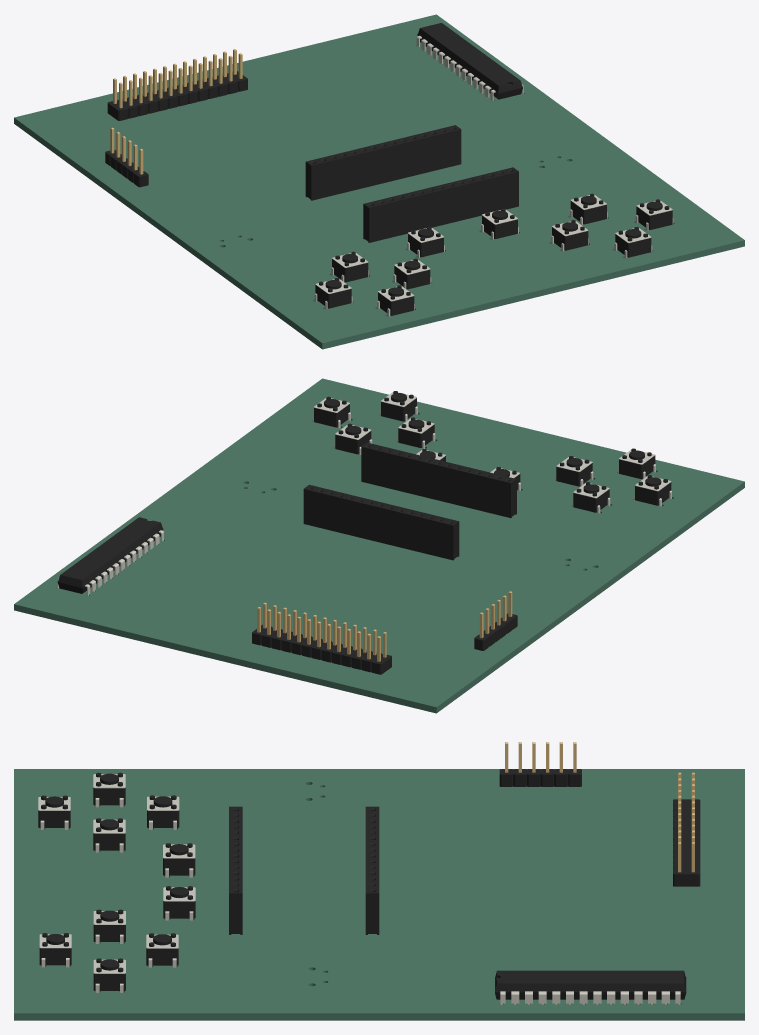
The picture shows the model from 3 angles, top to bottom: view 1: azimuth 30°, elevation 25°; view 2: azimuth 150°, elevation 25°; view 3: azimuth 270°, elevation 25°; orthographic projection. The views are drawn at different scales.
Parts seen in each view (by area): view 1: =>[0:1:1:7], J1, J2, J3, U1, J4, SW7, SW2, SW8, SW3, SW6, SW4 (+4 smaller); view 2: =>[0:1:1:7], J1, J2, J3, U1, J4, SW6, SW1, SW3, SW2, SW7, SW4 (+2 smaller); view 3: =>[0:1:1:7], U1, J3, J4, J1, J2, SW2, SW5, SW3, SW10, SW8, SW9 (+4 smaller).
Part boxes in pixels (x1,y1,x2,y2): =>[0:1:1:7]: [14, 14, 744, 349]; J1: [305, 125, 461, 200]; J2: [363, 167, 518, 242]; J3: [107, 49, 247, 120]; U1: [416, 23, 523, 101]; J4: [105, 127, 148, 187]; SW7: [635, 199, 673, 230]; SW2: [314, 278, 352, 309]; SW8: [614, 227, 652, 258]; SW3: [393, 258, 431, 289]; SW6: [551, 220, 588, 251]; SW4: [377, 285, 414, 316]; =>[0:1:1:7]: [14, 378, 744, 713]; J1: [303, 484, 459, 560]; J2: [361, 442, 516, 517]; J3: [252, 602, 391, 674]; U1: [57, 517, 163, 595]; J4: [474, 591, 517, 650]; SW6: [397, 417, 435, 448]; SW1: [572, 482, 610, 513]; SW3: [555, 456, 593, 486]; SW2: [634, 475, 671, 506]; SW7: [313, 396, 350, 428]; SW4: [618, 448, 655, 479]; =>[0:1:1:7]: [14, 769, 744, 1020]; U1: [495, 970, 686, 1004]; J3: [673, 772, 700, 886]; J4: [499, 742, 581, 786]; J1: [365, 806, 379, 934]; J2: [229, 806, 242, 934]; SW2: [93, 772, 125, 807]; SW5: [146, 933, 178, 967]; SW3: [93, 818, 125, 852]; SW10: [163, 886, 195, 920]; SW8: [39, 933, 71, 967]; SW9: [163, 843, 195, 877].
Size of the model in its own units: 0.1074 by 0.012 by 0.1358.
